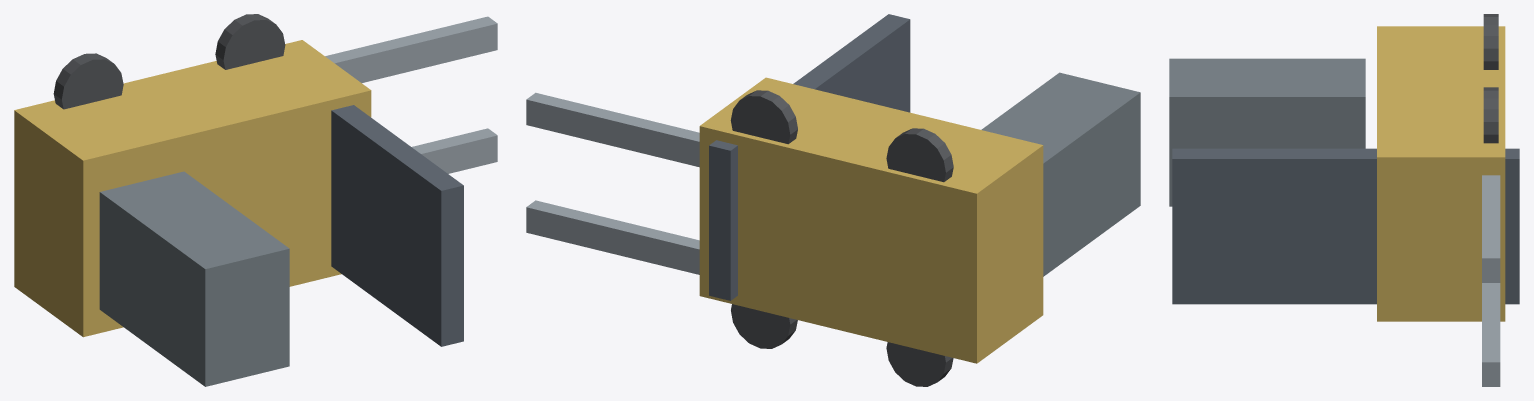
The model's file is forklift_robot.glb.
3 views of the same model, side by side, from view 1: azimuth 30°, elevation 25°; view 2: azimuth 150°, elevation 25°; view 3: azimuth 270°, elevation 25° (orthographic). The views are drawn at different scales.
Parts seen in each view (by area): view 1: world; view 2: world; view 3: world.
Part boxes in pixels (box(x1,y1,x2,y2)): world: box(14, 14, 497, 386); world: box(526, 14, 1140, 386); world: box(1169, 14, 1519, 386).
Bounding box in the file's own units: 3.35 × 1.78 × 2.32.
